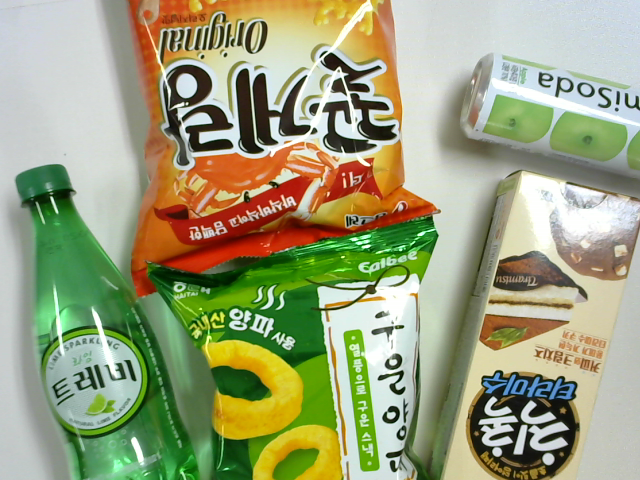Chicchok_Tiramisu: (429, 174, 640, 473)
Crabrang: (123, 8, 443, 292)
Demisoda_Apple_Can_250ml: (455, 50, 640, 188)
Grilled_Onions: (143, 216, 441, 480)
Treviraim_500ml: (13, 158, 201, 480)
